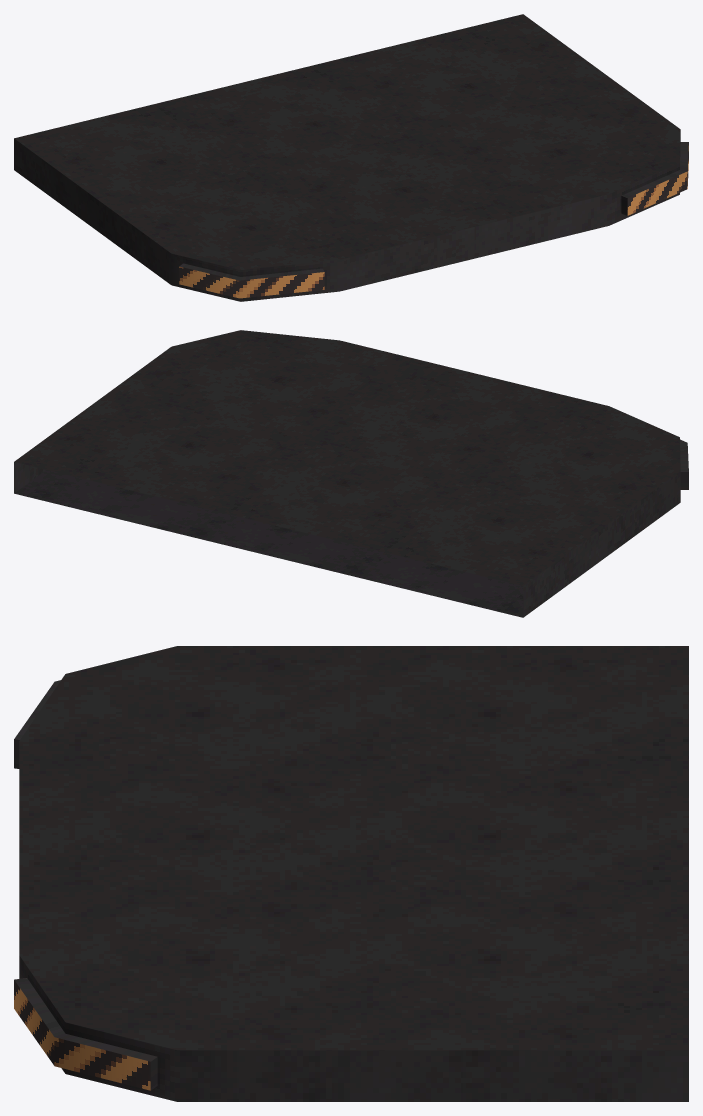
The picture shows the model from 3 angles, top to bottom: view 1: azimuth 30°, elevation 25°; view 2: azimuth 150°, elevation 25°; view 3: azimuth 270°, elevation 25°; orthographic projection. The views are drawn at different scales.
Visible parts, largest first — view 1: 2; view 2: 2; view 3: 2.
Part boxes in pixels (left/top/right/bottom): 2: left=14, top=14, right=688, bottom=301; 2: left=14, top=330, right=688, bottom=617; 2: left=14, top=646, right=688, bottom=1101.
Bounding box in the file's own units: 4.12 × 0.2453 × 2.91.
1 material, 1 textured.
